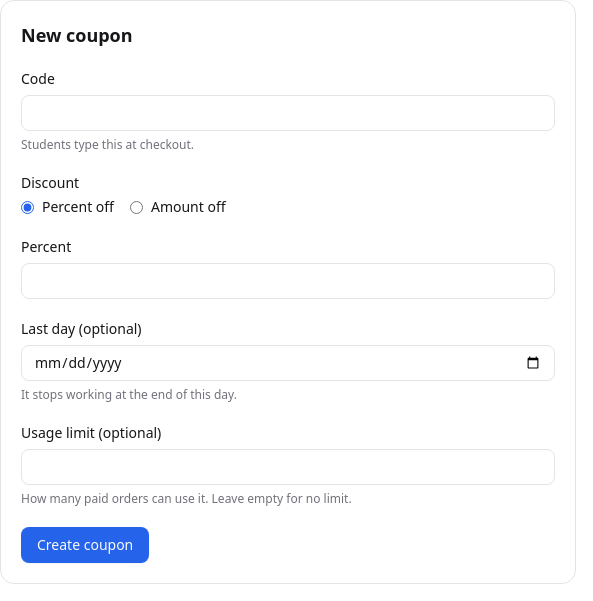
CouponForm › creates a percent coupon and says so
Type "launch" into the field labelled "Code". click: (288, 113)
box: [21,95,555,131]
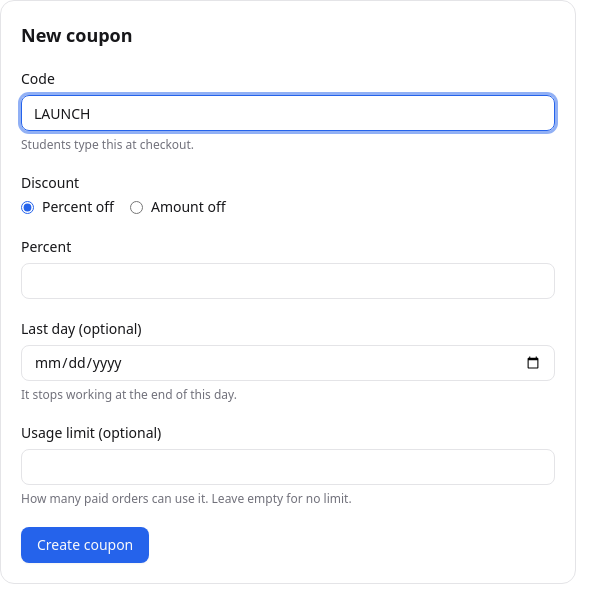
Type "20" into the number field labelled "Percent". click: (288, 281)
box: [21,263,555,299]
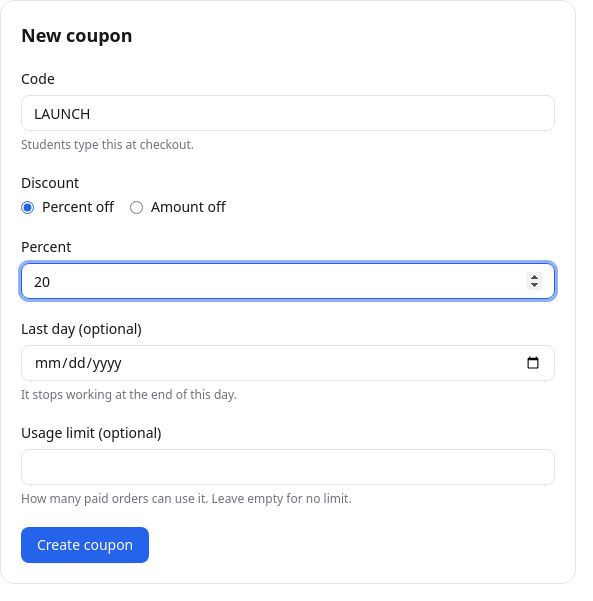
Click the button "Create coupon". click: (85, 545)
box: [21,527,149,563]
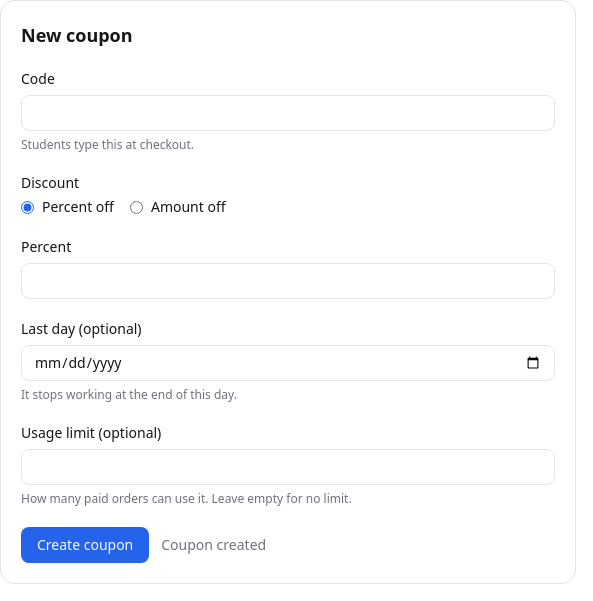
Expected: the text "Coupon created" is shown, [161,535,266,555]
